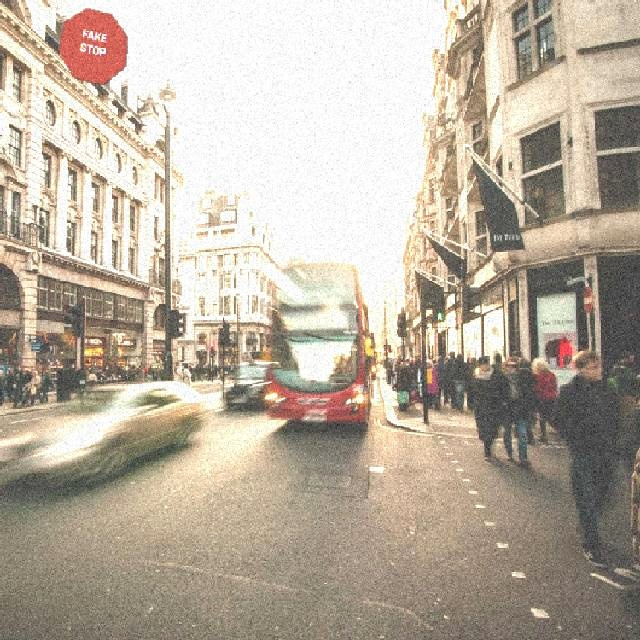FAKE_STOP: (56, 6, 127, 84)
